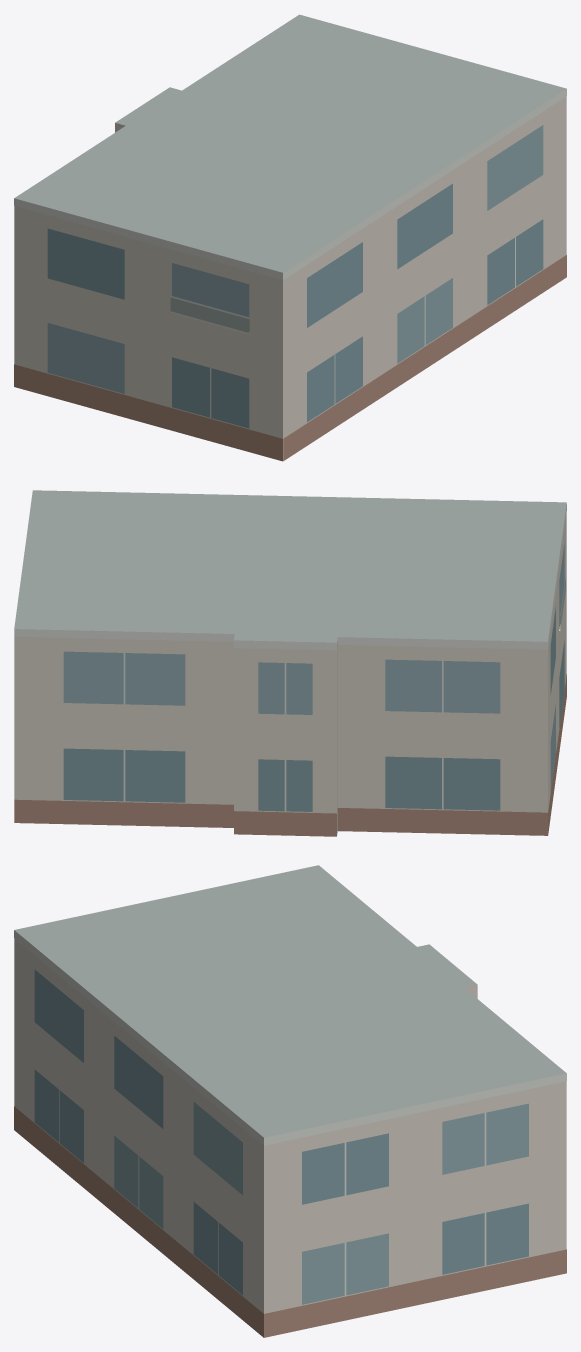
File: survey-upis-32911657.glb
3 views of the same model, one above another, from view 1: azimuth 30°, elevation 25°; view 2: azimuth 150°, elevation 25°; view 3: azimuth 270°, elevation 25° (orthographic). The views are drawn at different scales.
Parts seen in each view (by area): view 1: survey-upis-32911657.tmp; view 2: survey-upis-32911657.tmp; view 3: survey-upis-32911657.tmp.
Part boxes in pixels (x1=…): survey-upis-32911657.tmp: x1=14, y1=14, x2=566, y2=461; survey-upis-32911657.tmp: x1=14, y1=490, x2=566, y2=836; survey-upis-32911657.tmp: x1=14, y1=865, x2=566, y2=1337.
Size of the model in its own units: 17.84 by 6.1 by 15.28.
